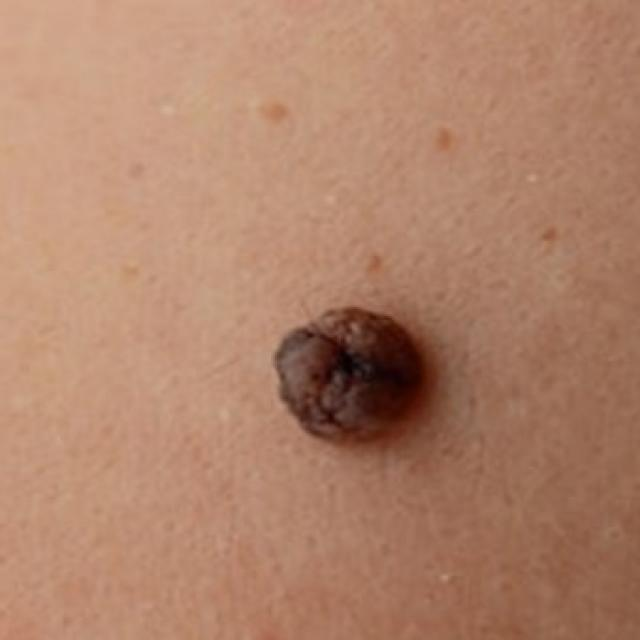wart: (267, 302, 439, 449)
